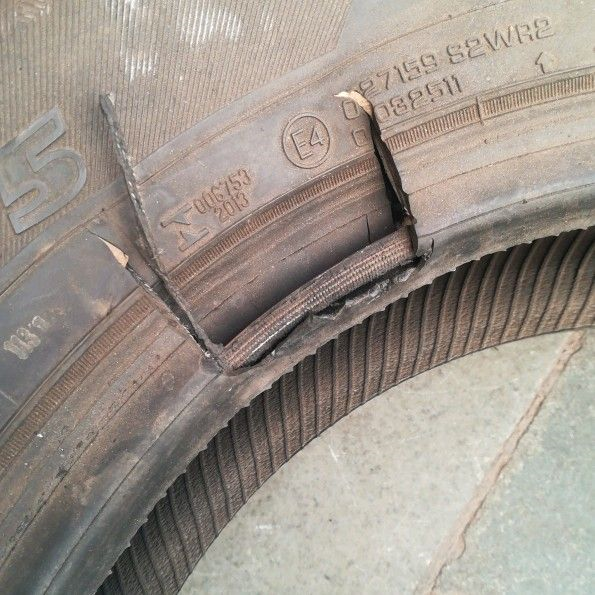bead_damage: (85, 87, 437, 381)
